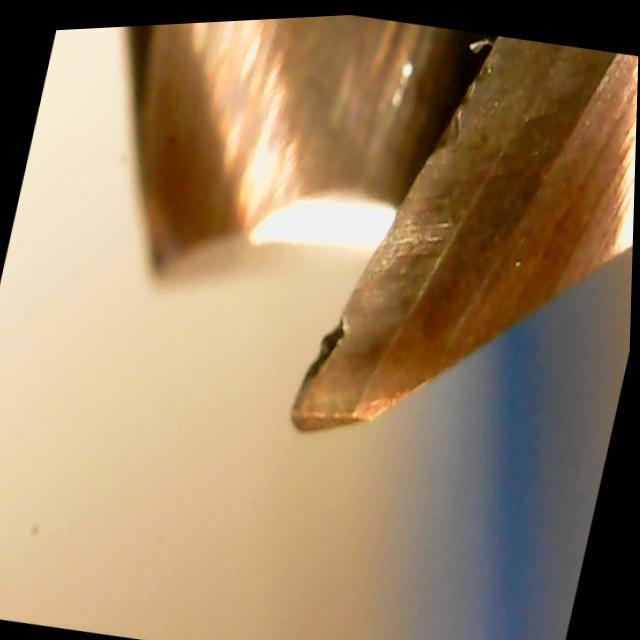Tool-wear-class-1: (251, 208, 488, 464)
